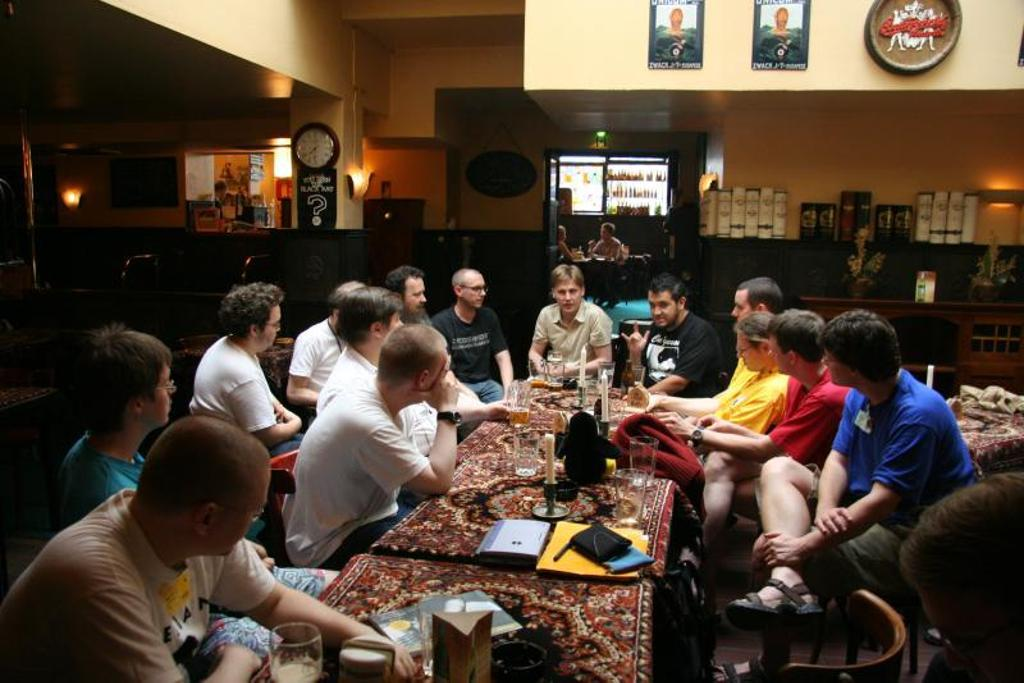face: (922, 590, 1024, 683), (201, 486, 270, 556), (133, 366, 174, 426), (417, 352, 450, 400), (251, 305, 282, 347), (374, 312, 406, 352), (824, 344, 853, 387), (738, 332, 767, 372), (732, 289, 759, 330), (769, 335, 798, 373), (649, 294, 677, 327), (403, 279, 428, 314), (556, 282, 581, 312), (463, 278, 487, 309), (671, 12, 682, 26), (776, 12, 788, 24), (600, 229, 611, 241), (560, 229, 567, 242)
